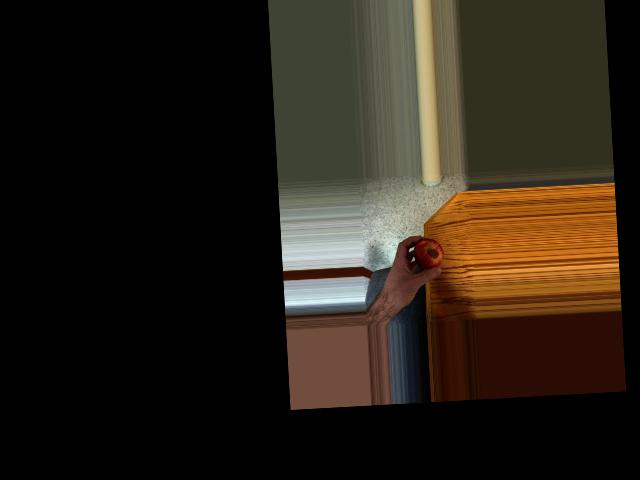apple: (412, 236, 444, 273)
